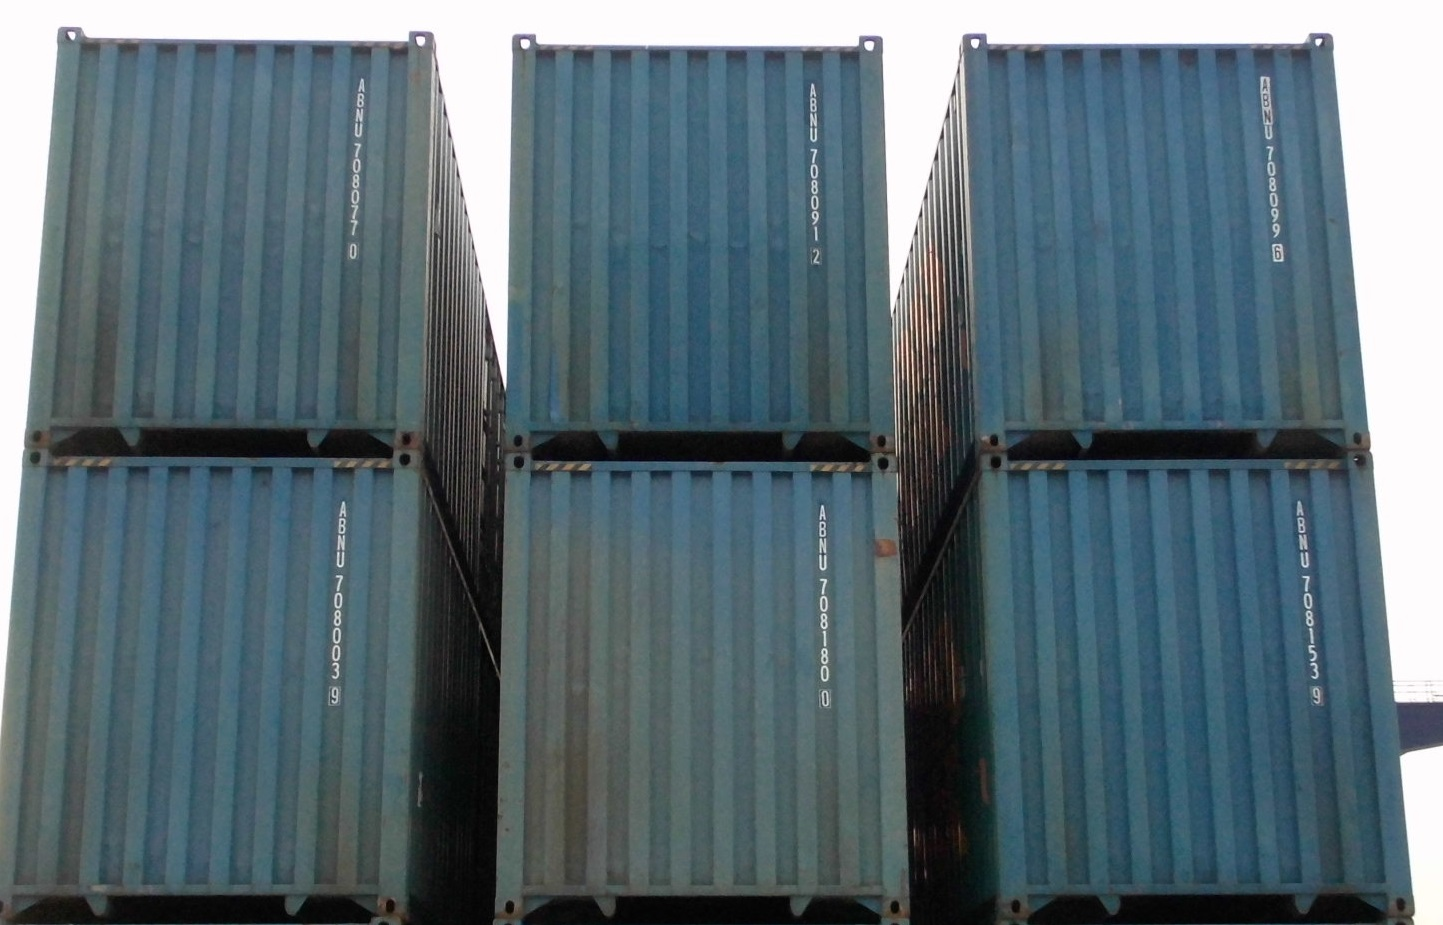container_no_door: (973, 448, 1419, 918), (500, 453, 913, 922), (11, 453, 411, 925), (955, 31, 1371, 447), (25, 31, 438, 445), (502, 31, 890, 447)
